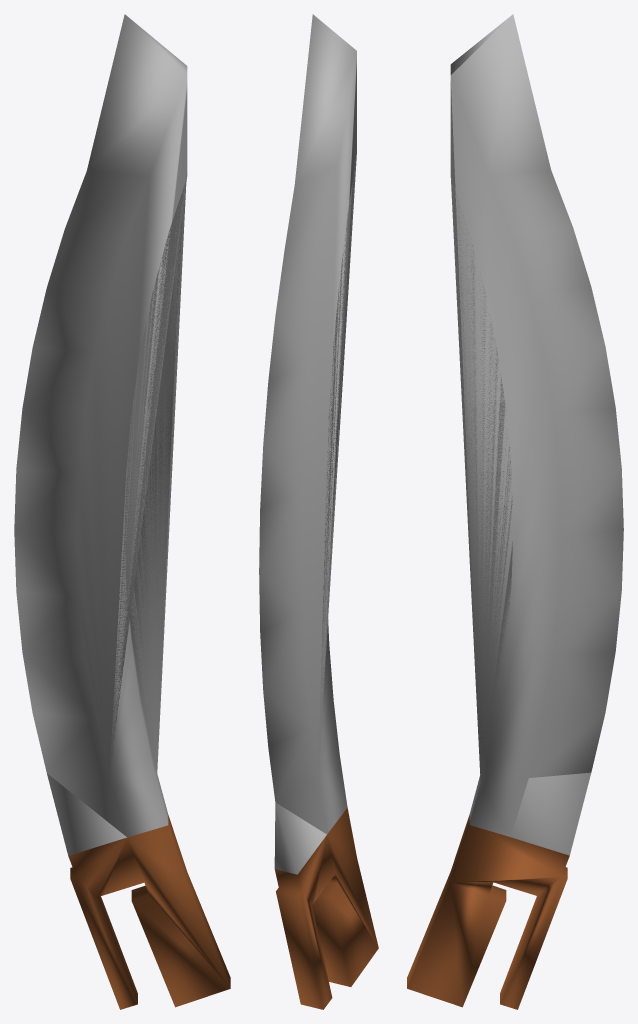
File: RSword.fbx
3 renders of one model, left to right at view 1: azimuth 90°, elevation 25°; view 2: azimuth 150°, elevation 25°; view 3: azimuth 270°, elevation 25°, orthographic.
Visible parts, largest first — view 1: RoundSword1; view 2: RoundSword1; view 3: RoundSword1.
Part boxes in pixels (x1=…): RoundSword1: x1=14, y1=14, x2=230, y2=1009; RoundSword1: x1=259, y1=14, x2=378, y2=1009; RoundSword1: x1=407, y1=14, x2=623, y2=1009.
Size of the model in its own units: 2.11 by 87.38 by 17.32.
